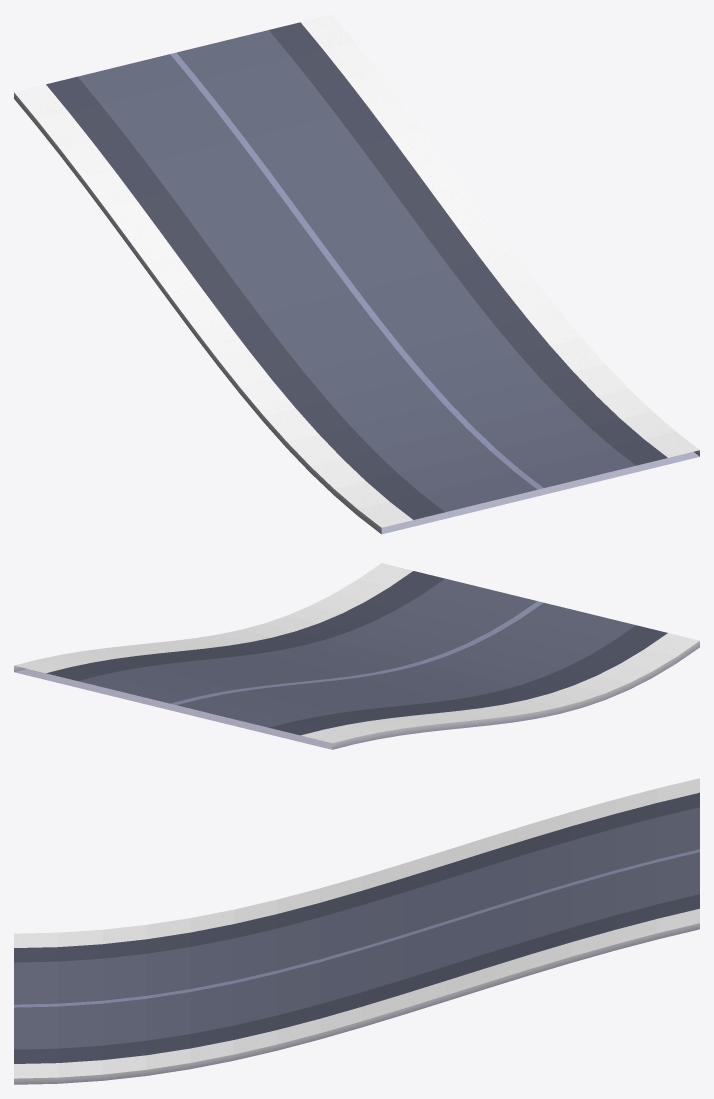
Rendered from road-Straight-Flat-BiSlopeUp-Up2-Center-Size2.glb.
3 renders of one model, top to bottom at view 1: azimuth 30°, elevation 25°; view 2: azimuth 150°, elevation 25°; view 3: azimuth 270°, elevation 25°, orthographic. The views are drawn at different scales.
Parts seen in each view (by area): view 1: road-Straight-Flat-BiSlopeUp-Up2-Center-Size2; view 2: road-Straight-Flat-BiSlopeUp-Up2-Center-Size2; view 3: road-Straight-Flat-BiSlopeUp-Up2-Center-Size2.
Boxes of the visible parts, x1,y1,x2,y2 form: road-Straight-Flat-BiSlopeUp-Up2-Center-Size2: (14,14,699,534); road-Straight-Flat-BiSlopeUp-Up2-Center-Size2: (14,563,699,749); road-Straight-Flat-BiSlopeUp-Up2-Center-Size2: (14,778,699,1084).
Size of the model in its own units: 1 by 0.52 by 2.
Materials: 1 (1 with a texture image).
